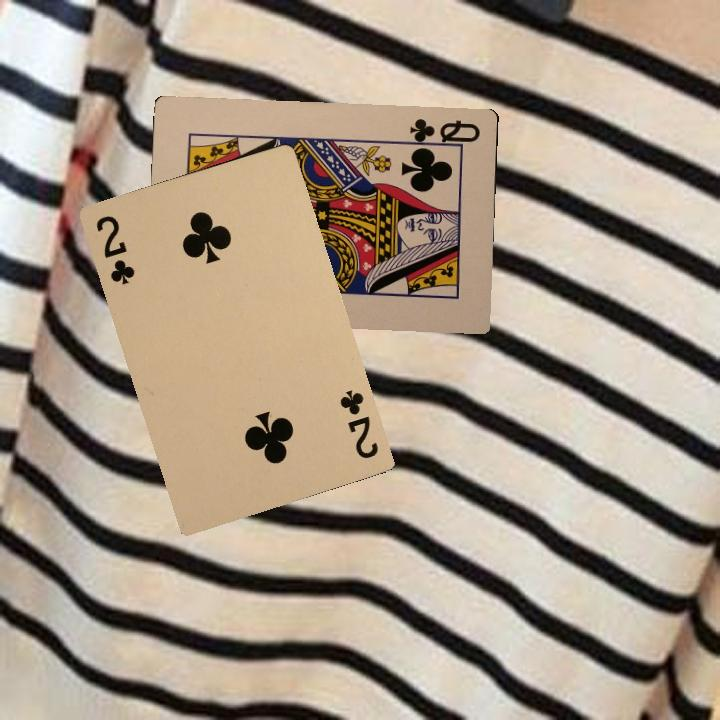2c: (91, 211, 138, 288), (335, 386, 381, 461)
Qc: (403, 114, 482, 150)
